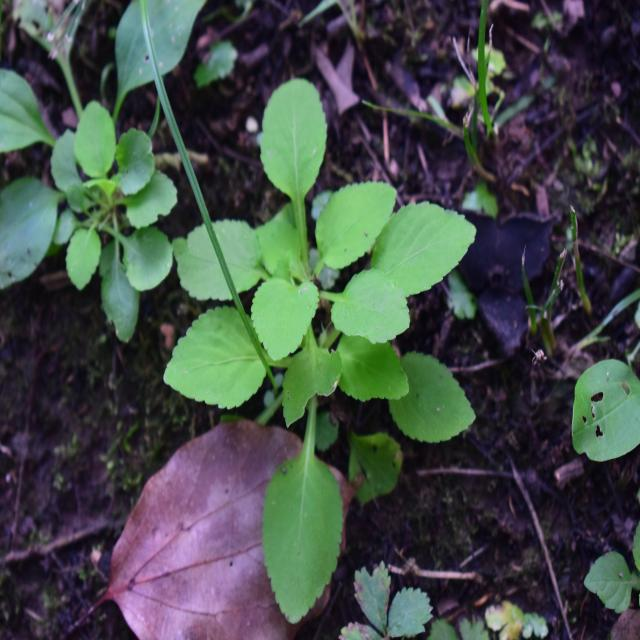Viola: (192, 62, 473, 590)
